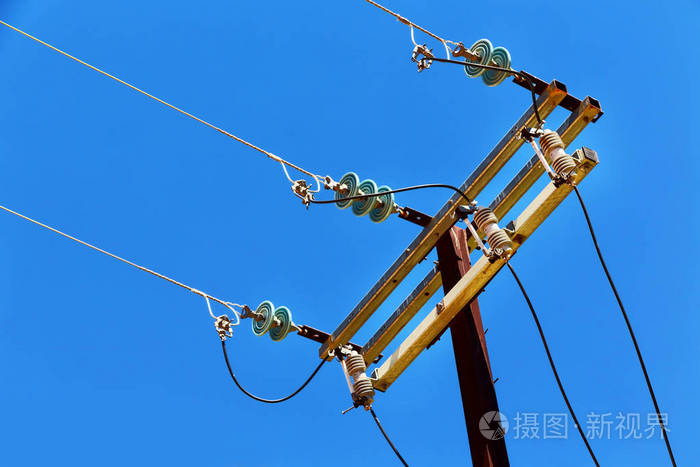insulator: (335, 171, 393, 223), (462, 39, 510, 88), (251, 300, 292, 342)
